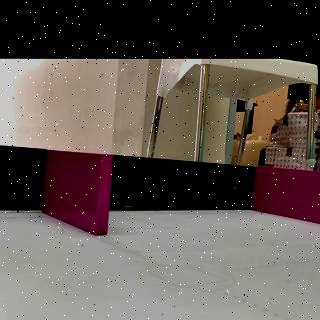xparking: (45, 157, 109, 236), (257, 172, 319, 222)
